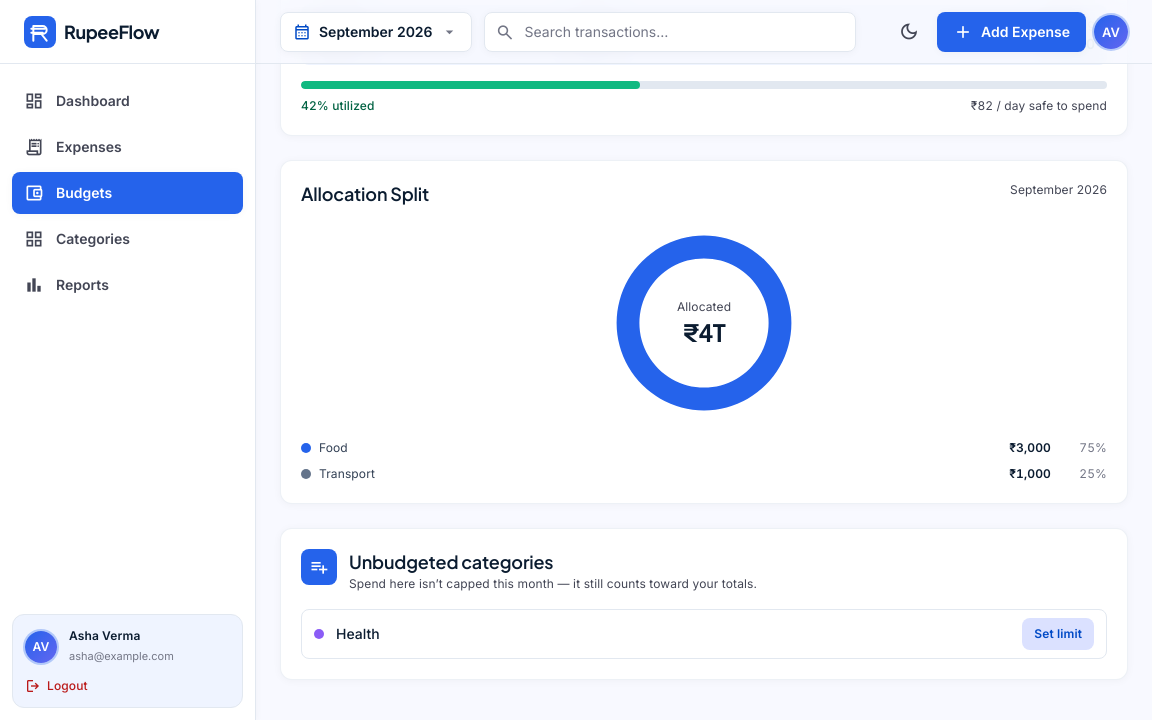
Budgets › shows the 409 duplicate-budget error on the category field
(page scrolled)
Click the button "Set limit" at (1058, 634), box [1022,618,1094,650]
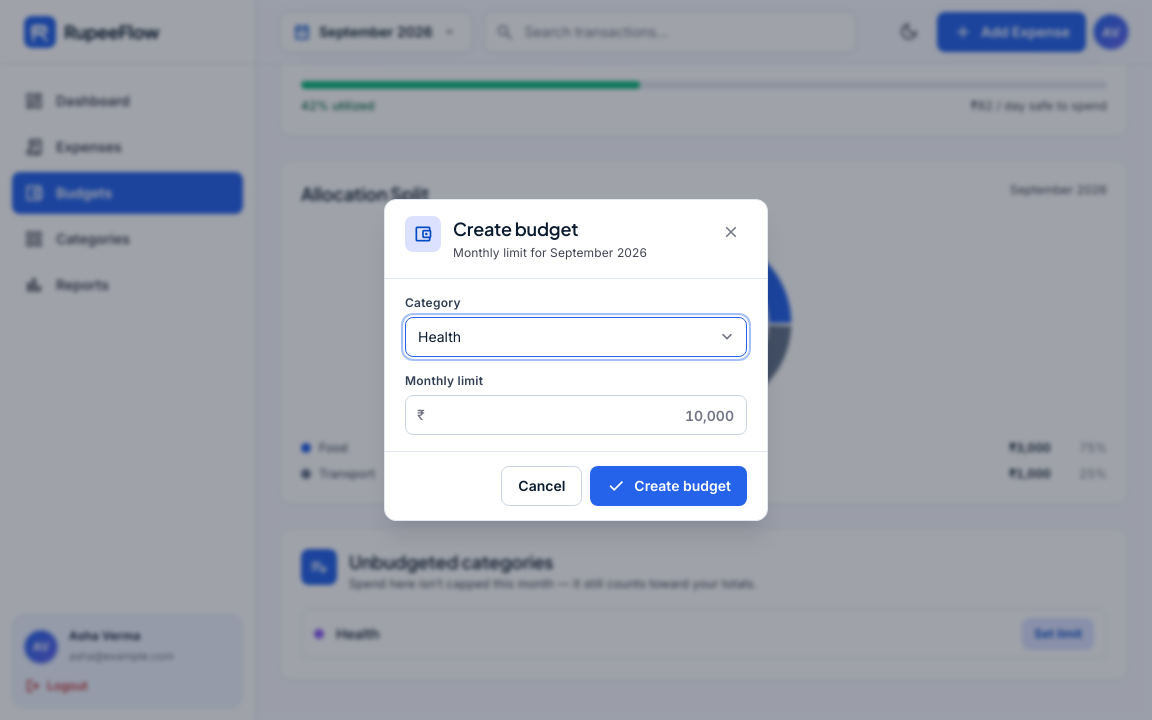
Type "500" into the field labelled "Monthly limit" at (576, 415), box [405,395,747,435]
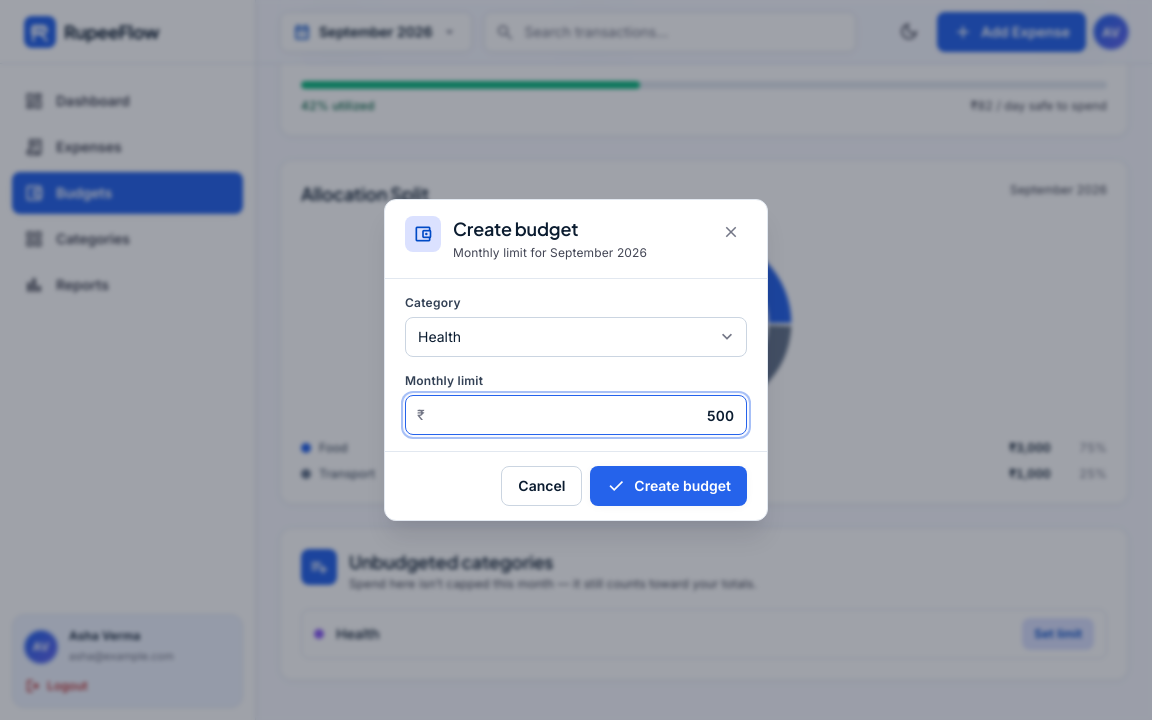
Click the button "Create budget" at (669, 486), box [590,466,747,506]
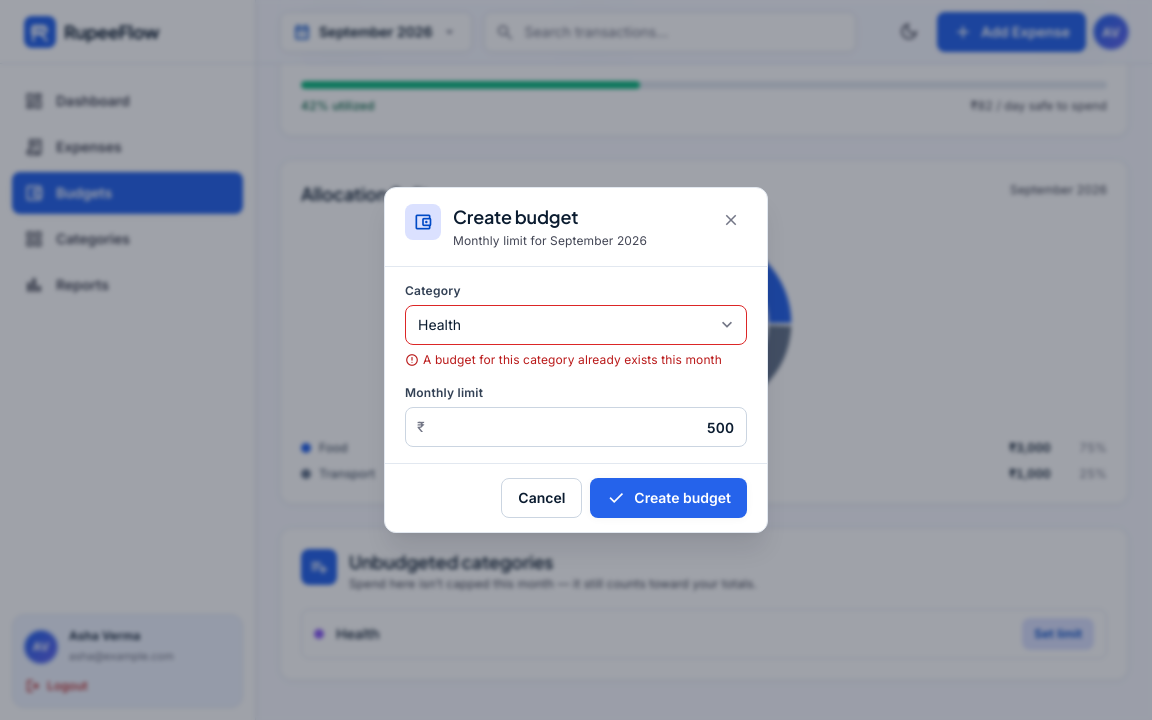
Now the text "A budget for this category already exists this month" is shown, box [405,351,747,369]
